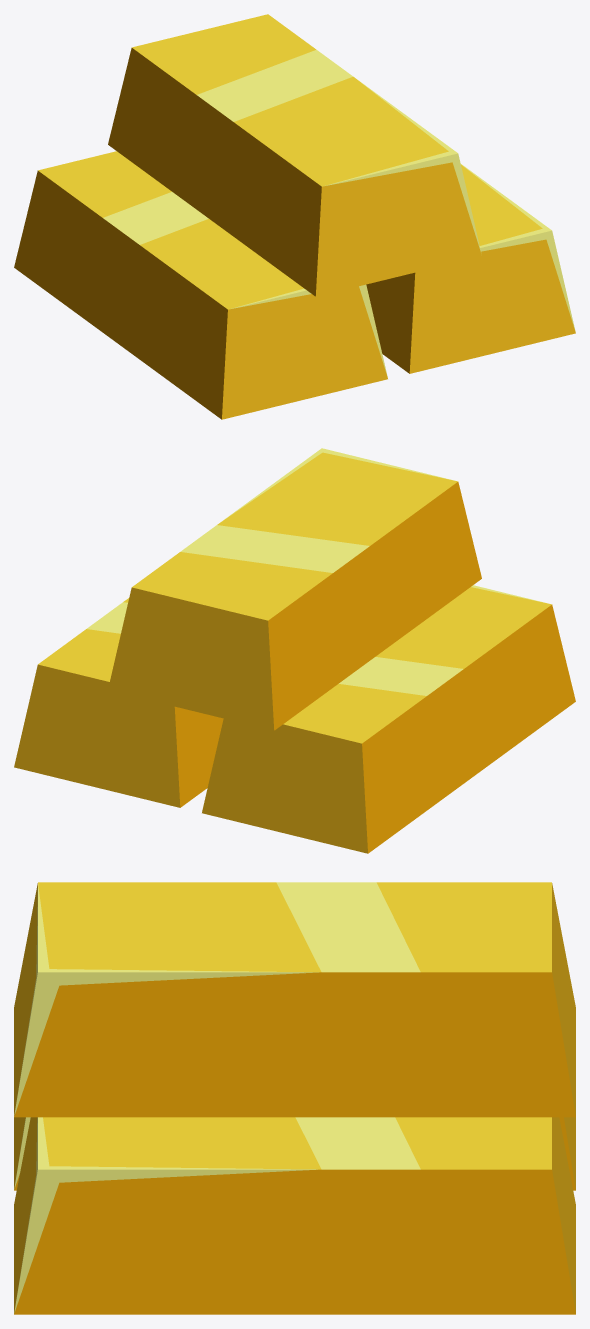
Rendered from Item_Goldbar.FBX.
3 renders of one model, top to bottom at view 1: azimuth 30°, elevation 25°; view 2: azimuth 150°, elevation 25°; view 3: azimuth 270°, elevation 25°, orthographic. The views are drawn at different scales.
Parts seen in each view (by area): view 1: Item_Goldbar; view 2: Item_Goldbar; view 3: Item_Goldbar.
Boxes of the visible parts, x1,y1,x2,y2 form: Item_Goldbar: (14,14,575,419); Item_Goldbar: (14,448,575,853); Item_Goldbar: (14,882,575,1314).
Bounding box in the file's own units: 4.42 × 2.39 × 4.49.
